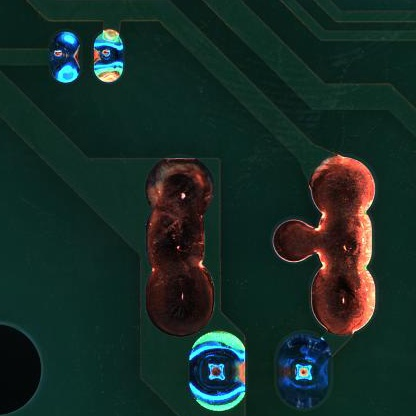spot: (188, 329, 248, 412), (275, 333, 331, 410), (48, 29, 82, 83), (93, 29, 123, 83)
